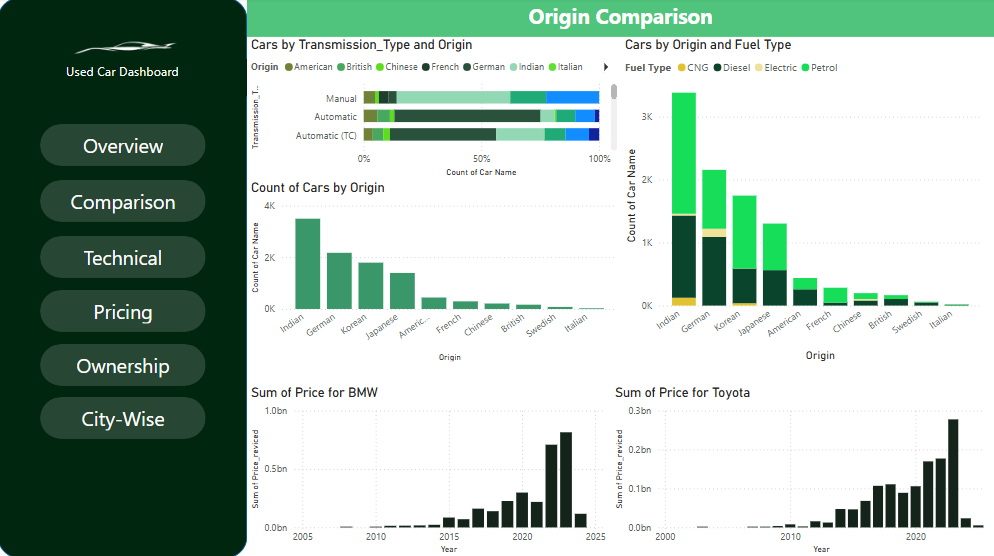

The dashboard page shown, as its layout file describes it:
{"tool":"powerbi","page":{"name":"Comparison","canvas":[1280,720],"ordinal":2},"visuals":[{"type":"shape","box":[0,0,320,719.7],"z":0},{"type":"actionButton","box":[54,161.9,213.3,54],"z":1000},{"type":"actionButton","box":[54,233.9,213.3,54],"z":2000},{"type":"actionButton","box":[54,305.9,213.3,54],"z":3000},{"type":"actionButton","box":[54,375.3,213.3,54],"z":4000},{"type":"actionButton","box":[54,444.7,213.3,54],"z":5000},{"type":"actionButton","box":[54,512.8,213.3,54],"z":6000},{"type":"textbox","box":[320,0,960,50],"z":7000},{"type":"columnChart","title":"Sum of Price for BMW","fields":{"Category":["Worksheet.Brand","Worksheet.Origin","Worksheet.Manufacturing Year.Variation.Date Hierarchy.Year"],"Y":["Sum(Worksheet.Price_reviced)"]},"box":[320,497.3,467.8,222.3],"z":8000},{"type":"columnChart","title":"Sum of Price for Toyota","fields":{"Category":["Worksheet.Brand","Worksheet.Origin","Worksheet.Manufacturing Year.Variation.Date Hierarchy.Year"],"Y":["Sum(Worksheet.Price_reviced)"]},"box":[787.8,497.3,492.2,222.3],"z":9000},{"type":"columnChart","title":"Count of Cars by Origin","fields":{"Category":["Worksheet.Origin"],"Y":["CountNonNull(Worksheet.Car Name)"]},"box":[320,233.9,480.6,237.8],"z":10000},{"type":"columnChart","title":"Cars by Origin and Fuel Type","fields":{"Category":["Worksheet.Origin"],"Series":["Worksheet.Fuel Type"],"Y":["CountNonNull(Worksheet.Car Name)"]},"box":[800.6,50.1,467.8,421.5],"z":11000},{"type":"hundredPercentStackedBarChart","title":"Cars by Transmission_Type and Origin","fields":{"Category":["Worksheet.Transmission_Type"],"Series":["Worksheet.Origin"],"Y":["CountNonNull(Worksheet.Car Name)"]},"box":[320,50.1,480.6,183.8],"z":12000},{"type":"image","box":[0,0,320,125.9],"z":12001},{"type":"textbox","box":[0,78.4,320,47.6],"z":12002}]}

Visuals, with their boxes in screenshot pixels (x1, y1, x2, y2), scaled from the page's 1280x720 canvas onto the 994x556 screenshot:
shape: x1=0, y1=0, x2=248, y2=555
actionButton: x1=42, y1=125, x2=208, y2=167
actionButton: x1=42, y1=181, x2=208, y2=222
actionButton: x1=42, y1=236, x2=208, y2=278
actionButton: x1=42, y1=290, x2=208, y2=332
actionButton: x1=42, y1=343, x2=208, y2=385
actionButton: x1=42, y1=396, x2=208, y2=438
textbox: x1=248, y1=0, x2=993, y2=39
"Sum of Price for BMW" columnChart: x1=248, y1=384, x2=612, y2=555
"Sum of Price for Toyota" columnChart: x1=612, y1=384, x2=993, y2=555
"Count of Cars by Origin" columnChart: x1=248, y1=181, x2=622, y2=364
"Cars by Origin and Fuel Type" columnChart: x1=622, y1=39, x2=985, y2=364
"Cars by Transmission_Type and Origin" hundredPercentStackedBarChart: x1=248, y1=39, x2=622, y2=181
image: x1=0, y1=0, x2=248, y2=97
textbox: x1=0, y1=61, x2=248, y2=97
